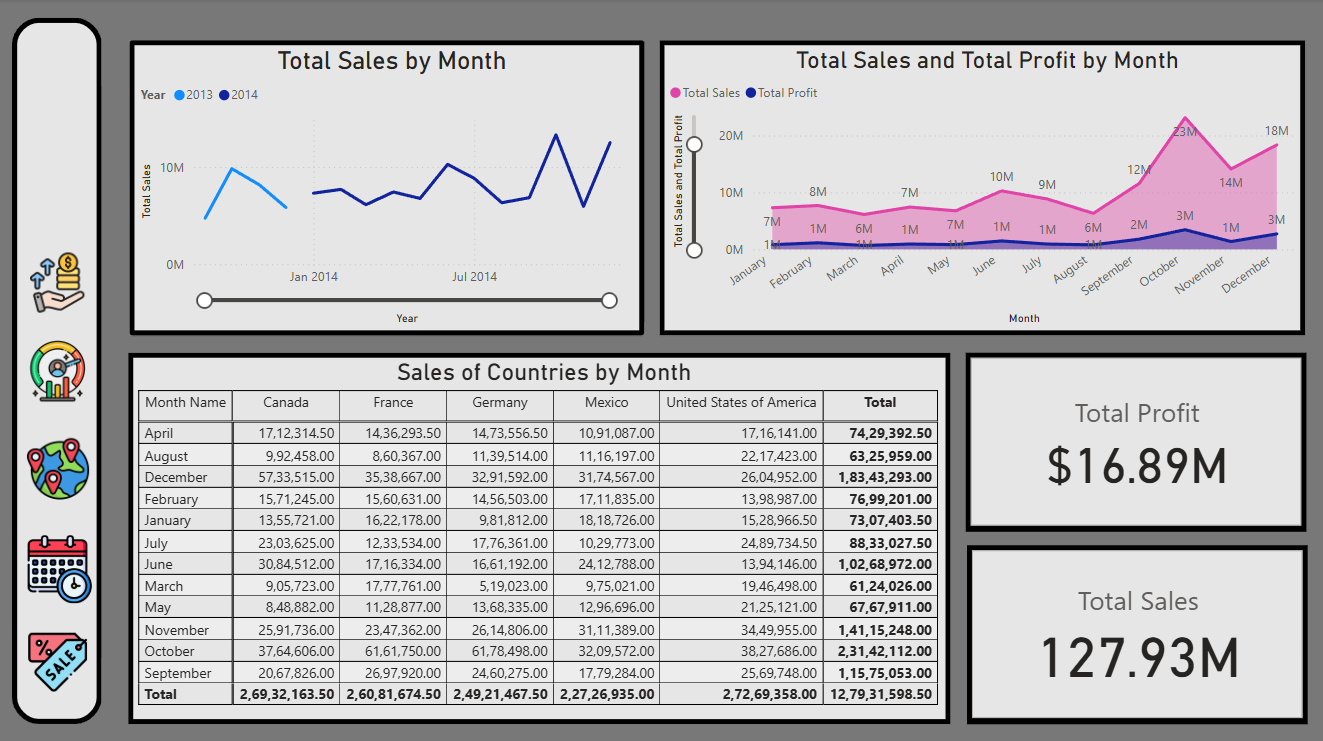

What the dashboard file says about the page in this screenshot:
{"tool":"powerbi","page":{"name":"Sesonability","canvas":[1280,720],"ordinal":3},"visuals":[{"type":"shape","box":[15,18.3,86.7,681.7],"z":0},{"type":"image","box":[21.7,418.3,75,70],"z":1000},{"type":"image","box":[23.3,325,71.7,70],"z":2000},{"type":"image","box":[21.7,238.3,73.3,70],"z":3000},{"type":"image","box":[23.3,513.3,75,75],"z":4000},{"type":"image","box":[20,606.7,76.7,66.7],"z":5000},{"type":"lineChart","title":"Total Sales by Month","fields":{"Category":["financials.Date.Variation.Date Hierarchy.Year","financials.Date.Variation.Date Hierarchy.Month"],"Series":["financials.Year"],"Y":["Measure Table.Total Sales"]},"box":[128.3,40,496.7,285],"z":6000},{"type":"pivotTable","title":"Sales of Countries by Month","fields":{"Values":["Measure Table.Total Sales"],"Columns":["financials.Country"],"Rows":["financials.Month Name"]},"box":[126.7,341.7,793.3,358.3],"z":7000},{"type":"areaChart","fields":{"Category":["financials.Date.Variation.Date Hierarchy.Year","financials.Date.Variation.Date Hierarchy.Quarter","financials.Date.Variation.Date Hierarchy.Month","financials.Date.Variation.Date Hierarchy.Day"],"Y":["Measure Table.Total Sales","Measure Table.Total Profit"]},"box":[640,40,623.3,285],"z":8000},{"type":"cardVisual","fields":{"Data":["Measure Table.Total Sales"]},"box":[936.4,527.3,329.1,172.7],"z":9000},{"type":"cardVisual","fields":{"Data":["Measure Table.Total Profit"]},"box":[934.5,341.8,329.1,172.7],"z":10000}]}

Visuals, with their boxes in screenshot pixels (x1, y1, x2, y2), scaled from the page's 1280x720 canvas onto the 1323x741 screenshot:
shape: (16, 19, 105, 720)
image: (22, 431, 100, 503)
image: (24, 334, 98, 407)
image: (22, 245, 98, 317)
image: (24, 528, 102, 605)
image: (21, 624, 100, 693)
"Total Sales by Month" lineChart: (133, 41, 646, 334)
"Sales of Countries by Month" pivotTable: (131, 352, 951, 720)
areaChart - financials.Date.Variation.Date Hierarchy.Year x financials.Date.Variation.Date Hierarchy.Quarter: (662, 41, 1306, 334)
cardVisual - Measure Table.Total Sales: (968, 543, 1308, 720)
cardVisual - Measure Table.Total Profit: (966, 352, 1306, 530)
